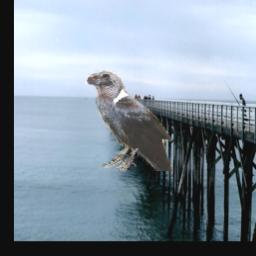Crow: (85, 70, 173, 171)
